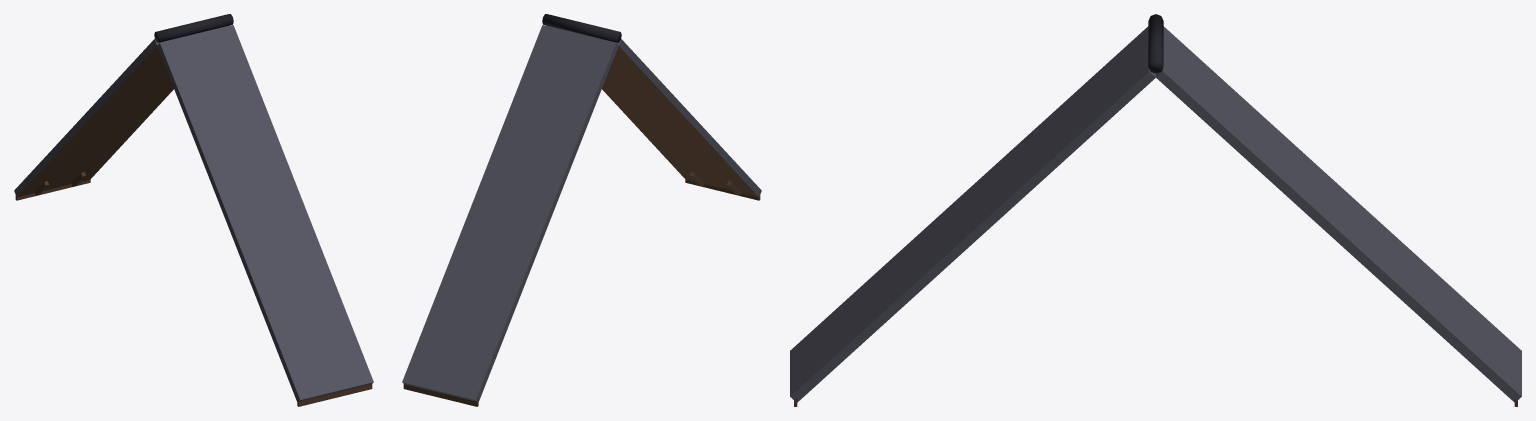
The model's file is kit_stone_slate_w6.glb.
3 renders of one model, left to right at view 1: azimuth 30°, elevation 25°; view 2: azimuth 150°, elevation 25°; view 3: azimuth 270°, elevation 25°, orthographic. The views are drawn at different scales.
Visible parts, largest first — view 1: kit_stone_slate_w6; view 2: kit_stone_slate_w6; view 3: kit_stone_slate_w6.
Boxes of the visible parts, left/top/right/bottom form: kit_stone_slate_w6: left=14, top=14, right=373, bottom=406; kit_stone_slate_w6: left=402, top=14, right=761, bottom=406; kit_stone_slate_w6: left=790, top=14, right=1521, bottom=406.
Size of the model in its own units: 1 by 3.52 by 6.73.
